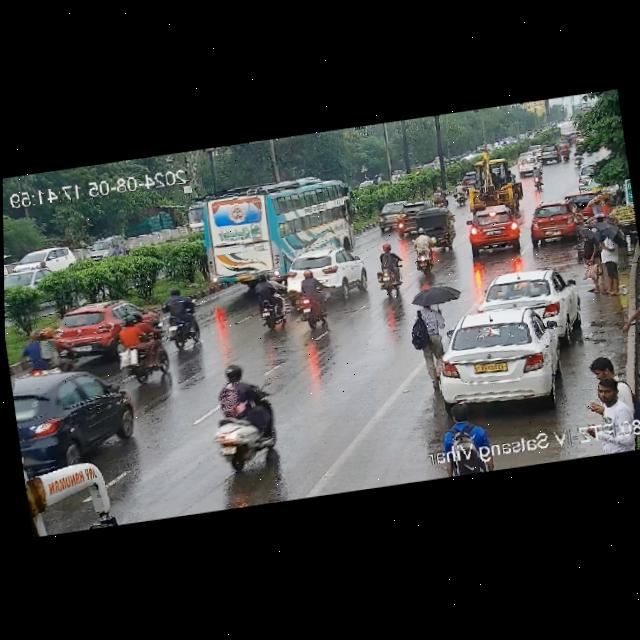bus: (183, 167, 359, 296), (26, 450, 124, 535)
car: (423, 301, 583, 417), (10, 361, 129, 466), (479, 264, 579, 330), (52, 296, 143, 355), (285, 242, 368, 298), (464, 208, 520, 253), (9, 244, 77, 278), (527, 202, 581, 244), (412, 205, 457, 251), (4, 265, 51, 298), (82, 234, 130, 260), (395, 201, 433, 233), (374, 197, 406, 232), (511, 153, 544, 176), (534, 142, 563, 165), (571, 164, 594, 189)
motorcycle: (207, 360, 285, 473), (118, 308, 165, 379), (160, 280, 201, 357), (15, 326, 69, 377), (290, 267, 329, 327), (254, 271, 291, 327), (374, 241, 406, 293), (409, 230, 438, 274), (449, 180, 469, 207), (527, 166, 546, 190), (432, 184, 446, 206), (110, 241, 124, 255), (573, 150, 585, 165), (561, 144, 570, 159), (37, 259, 47, 270), (395, 170, 402, 179), (372, 177, 379, 184)
person: (408, 288, 452, 368), (582, 377, 638, 430), (594, 212, 625, 293), (446, 409, 493, 458), (579, 223, 601, 291), (586, 352, 618, 381), (599, 195, 614, 213), (588, 200, 602, 216)
truck: (456, 155, 521, 213), (179, 194, 206, 236)
